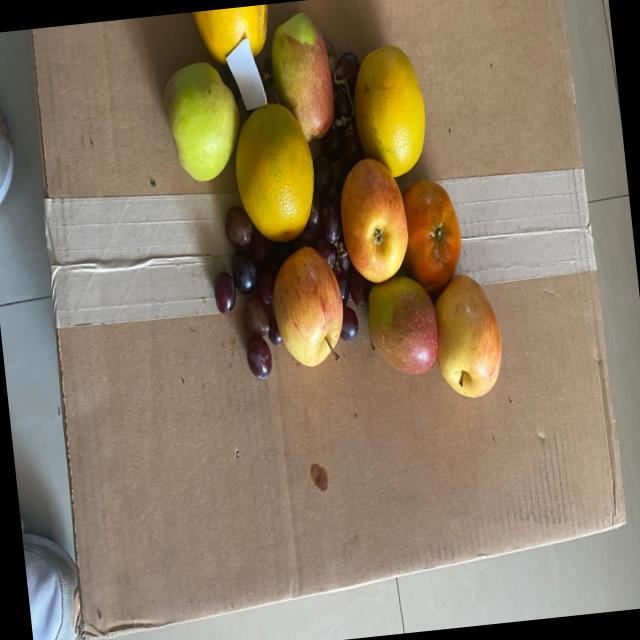hoja: (220, 31, 273, 117)
